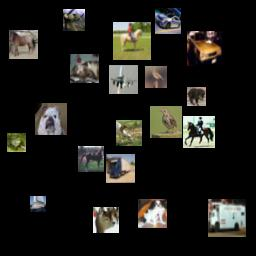airplane: (109, 65, 138, 94), (63, 9, 85, 31)
automobile: (187, 31, 222, 66), (155, 8, 181, 34)
bird: (150, 106, 182, 138), (145, 66, 167, 88)
cat: (70, 54, 99, 83)
deer: (93, 207, 119, 233), (116, 120, 142, 146)
dog: (35, 103, 67, 135), (138, 199, 167, 228), (187, 87, 206, 106)
frog: (7, 133, 26, 152)
ship: (30, 196, 46, 212)
truck: (208, 199, 246, 237), (106, 154, 135, 183)
